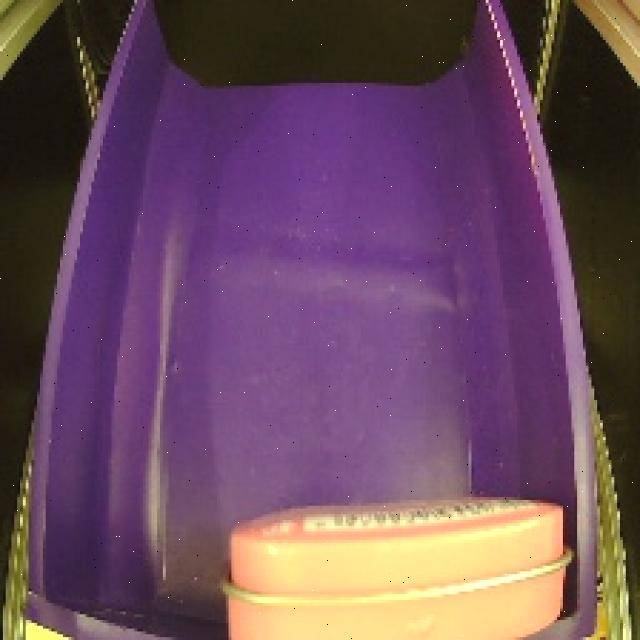metal: (202, 486, 584, 640)
